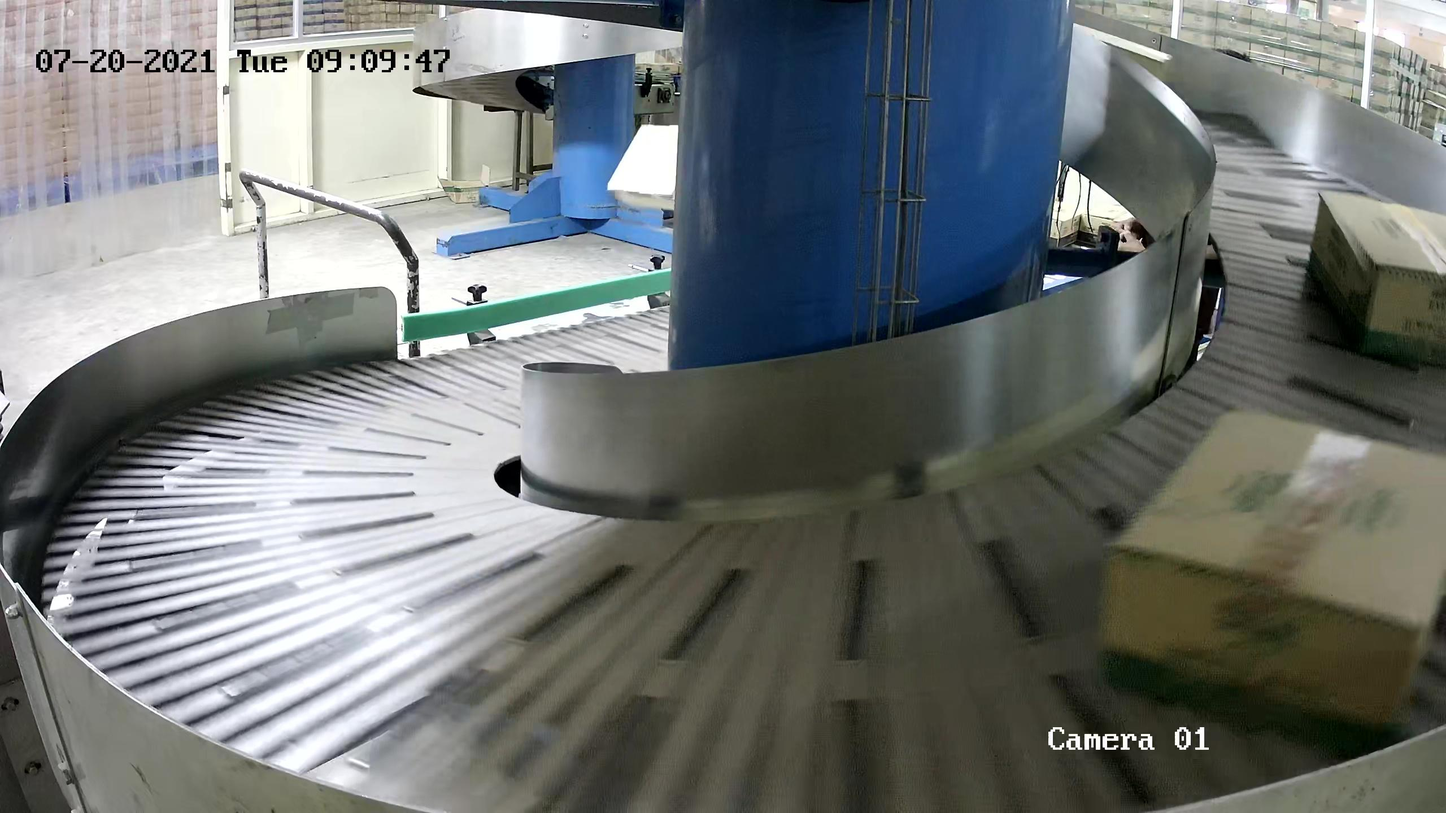Box: (1095, 405, 1446, 774), (1305, 188, 1446, 376)
